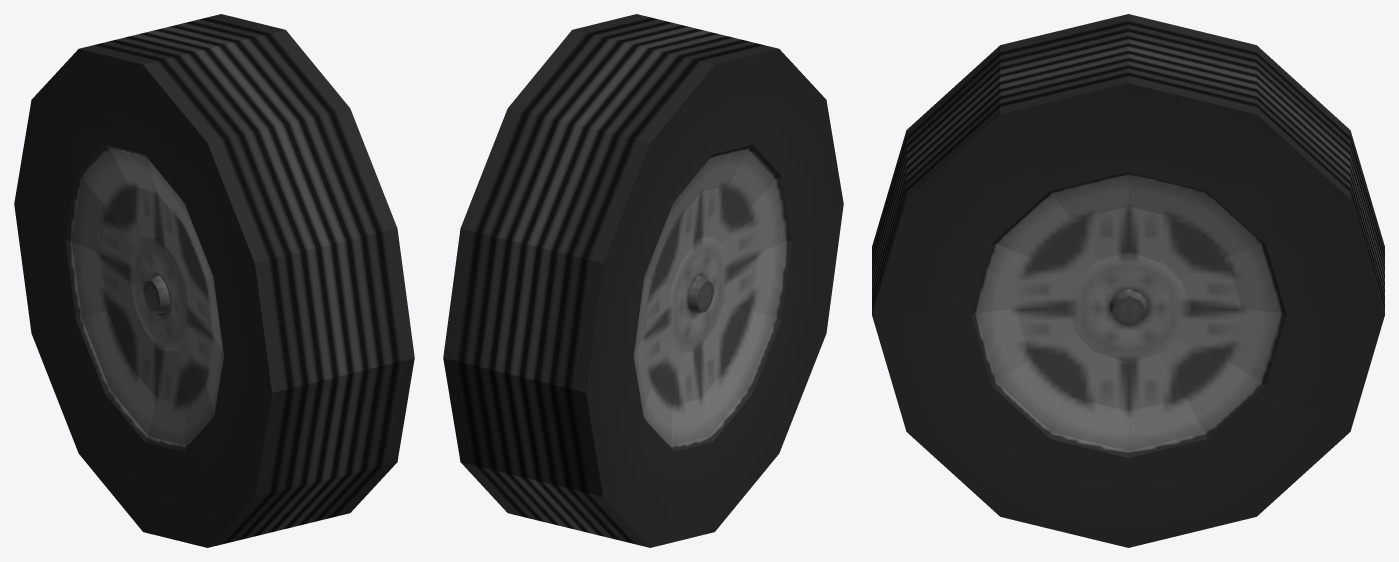
The model's file is HopperWheelB.fbx.
The picture shows the model from 3 angles, left to right: view 1: azimuth 30°, elevation 25°; view 2: azimuth 150°, elevation 25°; view 3: azimuth 270°, elevation 25°; orthographic projection.
Parts seen in each view (by area): view 1: HopperWheelA; view 2: HopperWheelA; view 3: HopperWheelA.
Part boxes in pixels (<box>): HopperWheelA: <box>14,14,414,547</box>; HopperWheelA: <box>443,14,843,547</box>; HopperWheelA: <box>872,14,1384,547</box>.
Size of the model in its own units: 0.3006 by 0.941 by 0.941.
